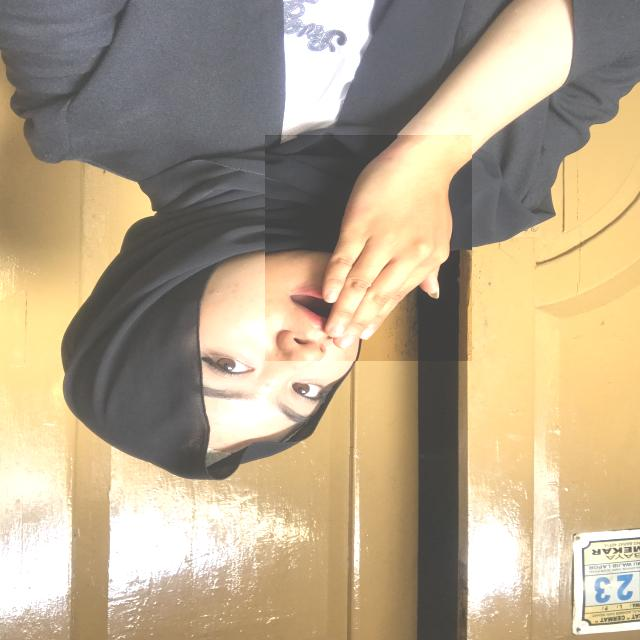ngantuk: (265, 134, 472, 360)
